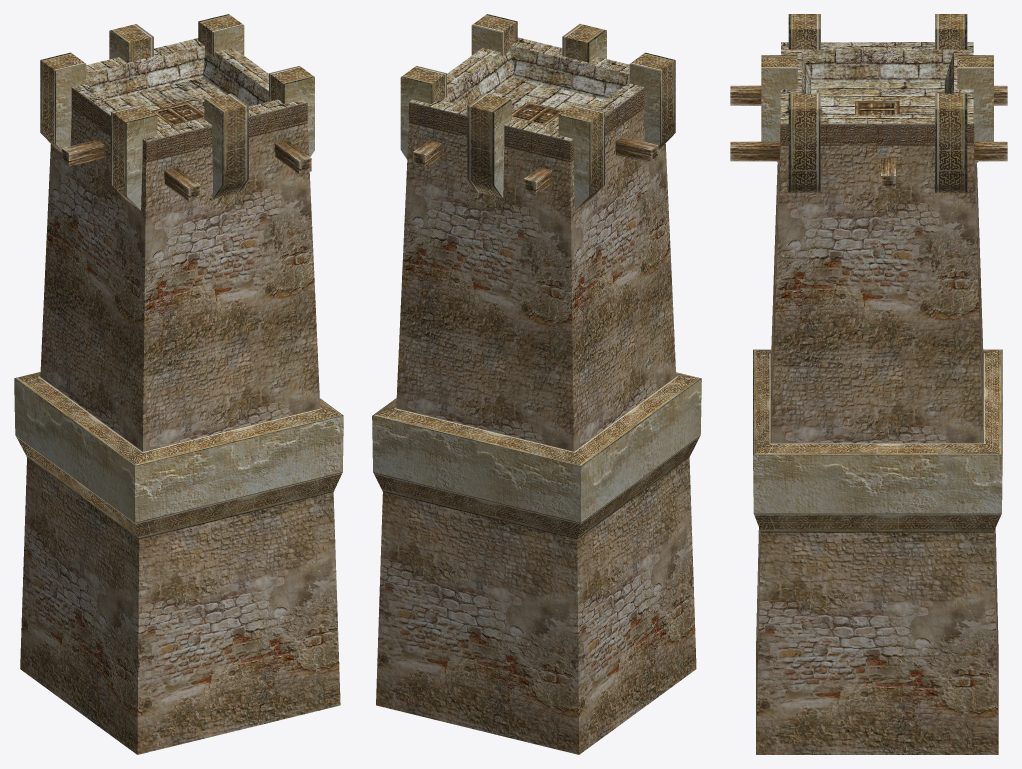
File: ph_ghtw2.glb
3 renders of one model, left to right at view 1: azimuth 30°, elevation 25°; view 2: azimuth 150°, elevation 25°; view 3: azimuth 270°, elevation 25°, orthographic. The views are drawn at different scales.
Visible parts, largest first — view 1: ph_ghtw2-col; view 2: ph_ghtw2-col; view 3: ph_ghtw2-col.
Part boxes in pixels (x1=…): ph_ghtw2-col: x1=14, y1=14, x2=343, y2=754; ph_ghtw2-col: x1=372, y1=14, x2=701, y2=754; ph_ghtw2-col: x1=730, y1=14, x2=1007, y2=754.
Size of the model in its own units: 6.87 by 17.47 by 6.85.
Materials: 5 (5 with a texture image).
